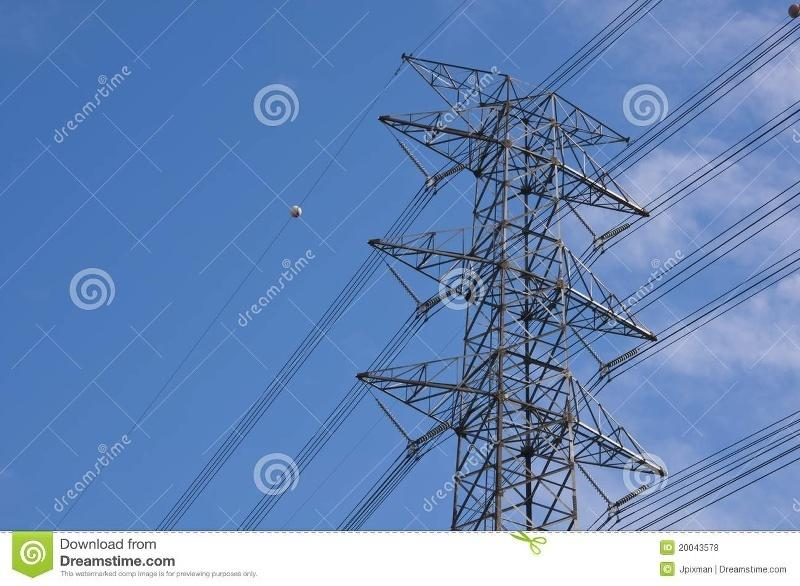power_tower: (361, 37, 672, 522)
